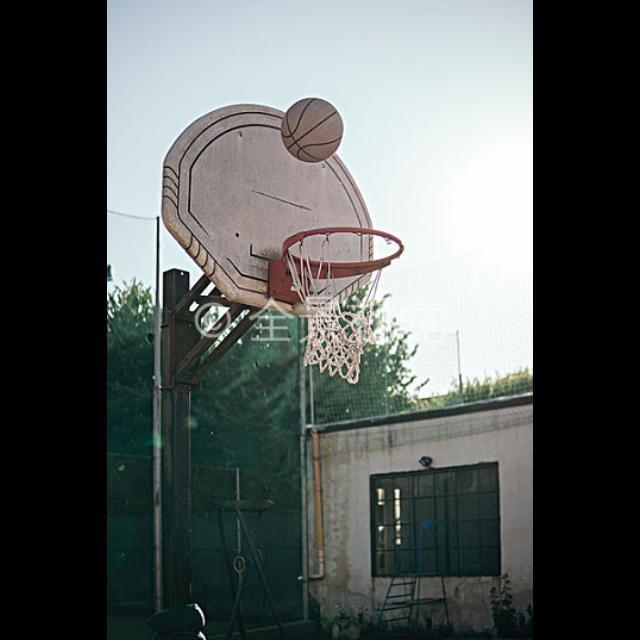basketball: (280, 98, 344, 162)
rim: (284, 226, 404, 382)
